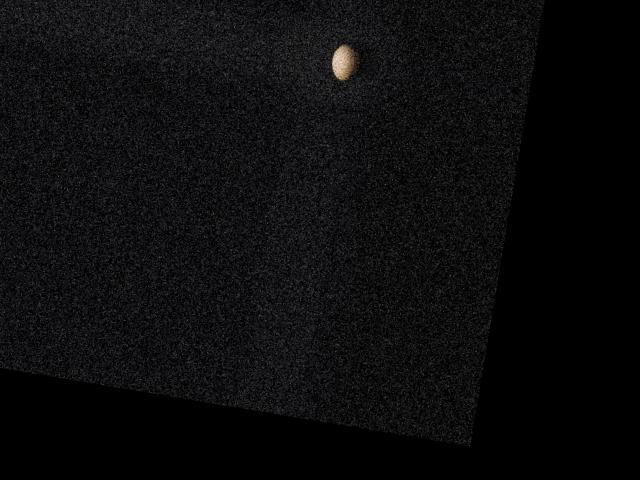egg: (328, 41, 361, 83)
